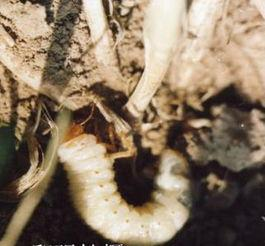grub: (56, 132, 196, 246)
